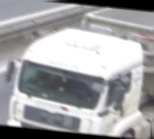truck: (9, 0, 154, 139)
